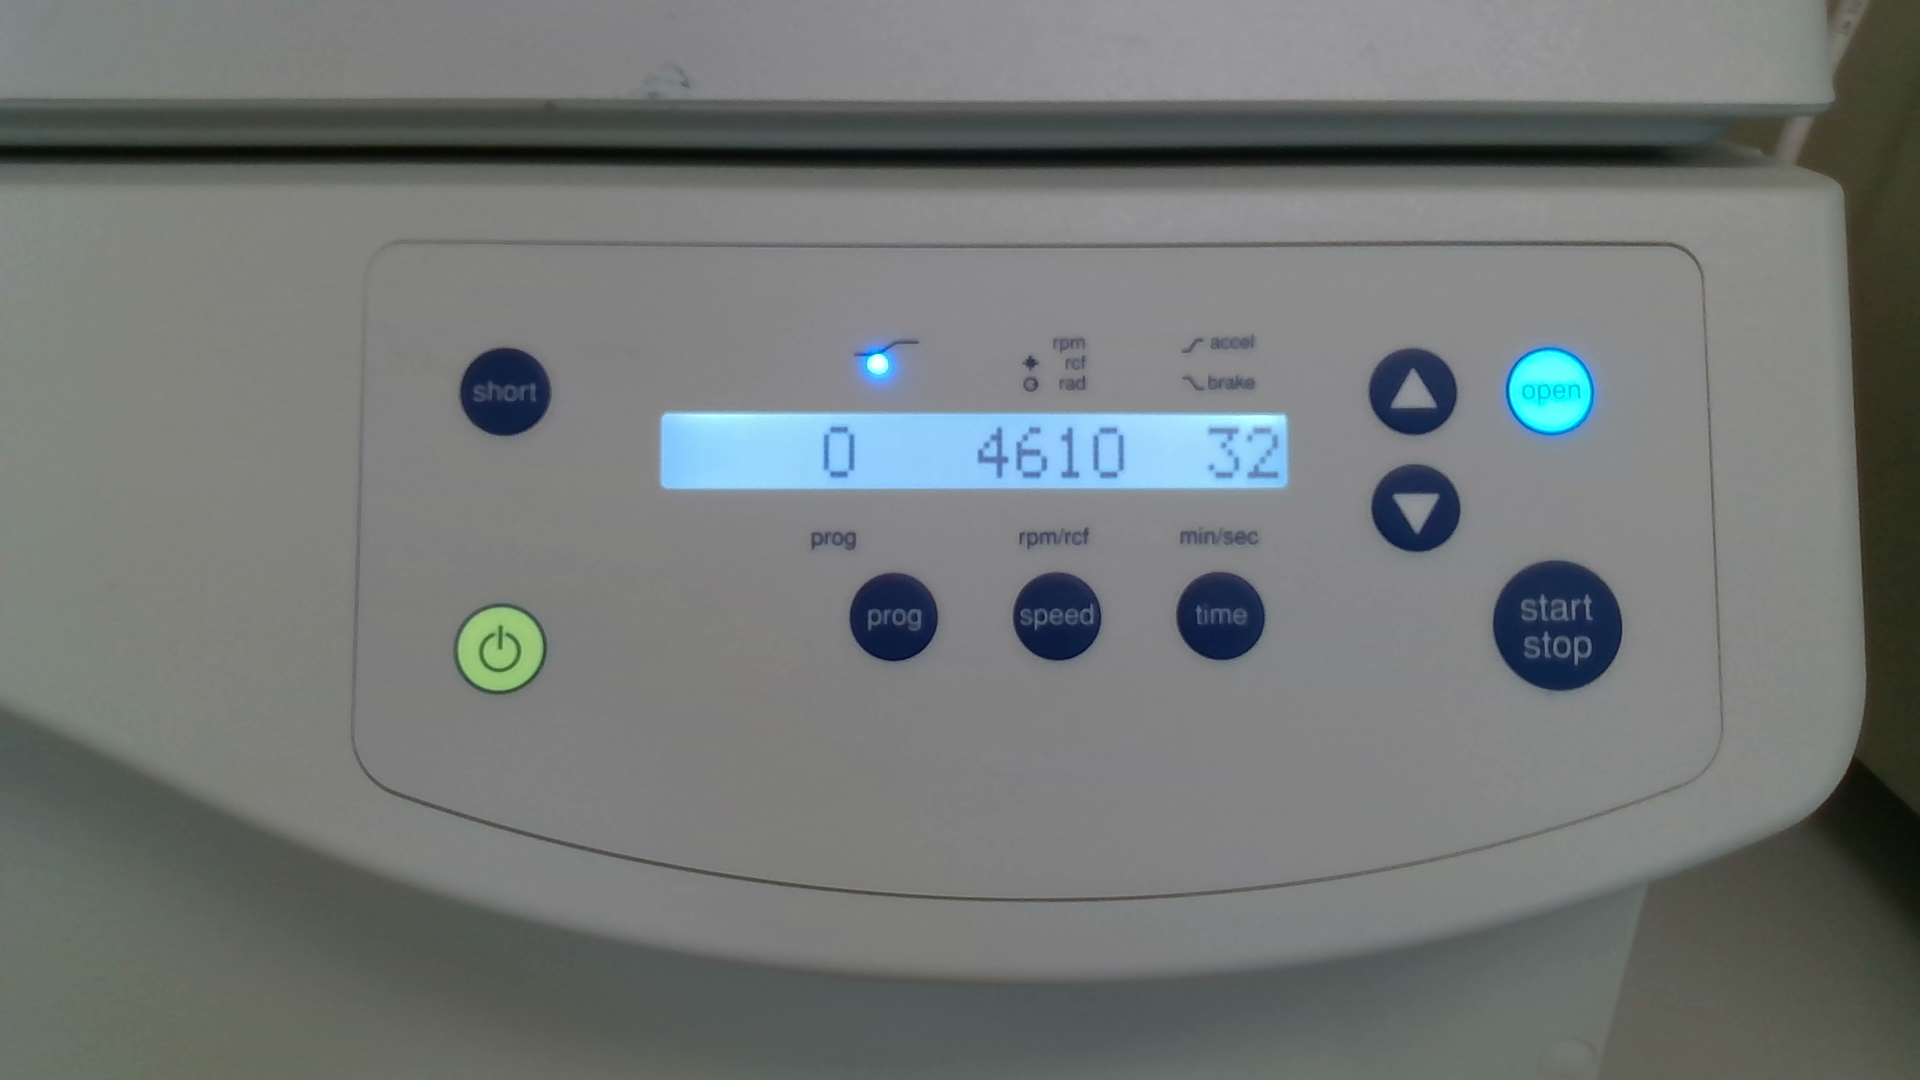0: (823, 425, 855, 477), (1093, 426, 1124, 479)
1: (1062, 426, 1079, 477)
2: (1247, 426, 1278, 479)
3: (1208, 426, 1240, 479)
4: (978, 426, 1009, 479)
6: (1015, 426, 1047, 479)
open_on: (1505, 345, 1596, 436)
power_on: (454, 603, 547, 695)
